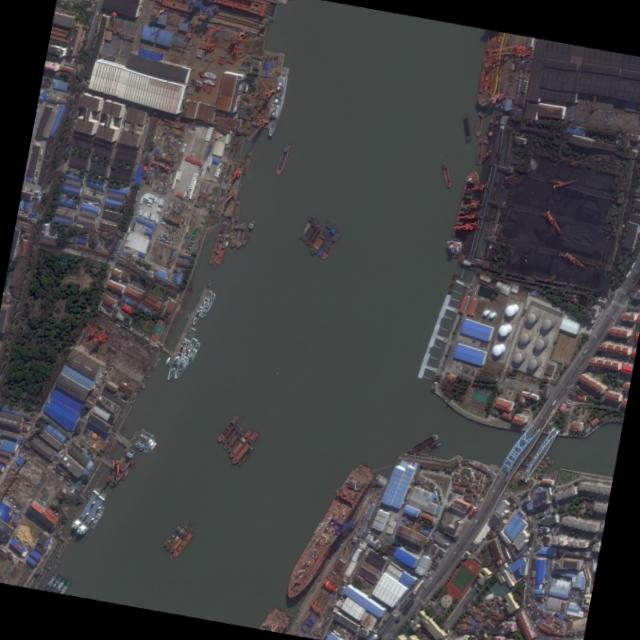ship: (280, 459, 377, 607), (447, 168, 481, 259), (476, 30, 505, 109), (166, 327, 196, 382), (267, 67, 290, 137), (76, 491, 108, 536), (72, 486, 102, 530), (110, 448, 136, 489), (174, 338, 198, 381), (309, 218, 336, 256), (231, 430, 259, 466), (229, 428, 254, 459), (316, 225, 339, 258), (192, 290, 213, 326), (217, 413, 240, 444), (408, 433, 440, 455), (321, 231, 341, 261), (172, 532, 194, 559), (275, 143, 291, 176), (163, 523, 184, 547), (224, 425, 243, 451), (166, 527, 186, 551), (299, 215, 316, 240), (170, 531, 188, 554), (227, 431, 245, 454), (209, 234, 222, 265), (222, 423, 240, 445), (201, 293, 216, 319), (242, 220, 256, 247), (186, 342, 201, 367), (237, 446, 254, 467), (302, 220, 318, 242), (90, 506, 105, 529), (441, 162, 453, 190), (230, 221, 242, 248), (120, 460, 135, 481), (305, 225, 320, 245), (236, 222, 247, 249), (484, 118, 495, 145), (309, 227, 323, 248), (44, 572, 59, 591), (135, 429, 149, 449), (139, 431, 152, 452), (53, 576, 68, 593), (48, 575, 63, 592), (242, 152, 253, 175), (462, 115, 471, 143), (143, 434, 155, 454), (212, 242, 223, 263), (476, 138, 484, 165), (225, 218, 235, 239), (58, 580, 72, 594), (476, 113, 484, 137), (215, 249, 225, 265), (147, 438, 156, 453), (425, 440, 438, 450), (235, 201, 240, 221), (229, 225, 236, 239), (541, 458, 554, 465), (237, 414, 245, 424), (185, 521, 193, 530), (151, 441, 158, 451), (538, 462, 548, 469), (536, 466, 546, 472), (166, 356, 171, 365), (534, 470, 542, 474)
storage-tank: (504, 304, 516, 318), (498, 324, 510, 337), (492, 344, 503, 357), (519, 332, 530, 345), (534, 338, 545, 351), (526, 312, 537, 325), (541, 318, 552, 331), (527, 358, 538, 370), (512, 352, 523, 364), (483, 311, 488, 316), (489, 313, 494, 318)
